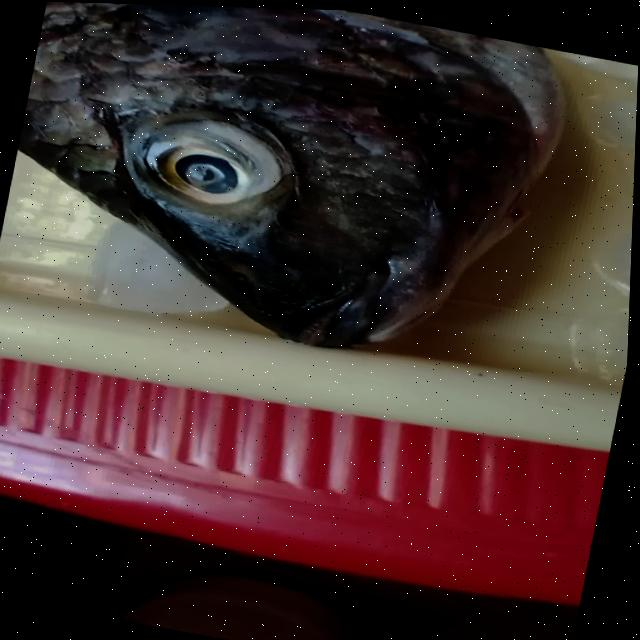Fresh: (117, 107, 301, 232)
